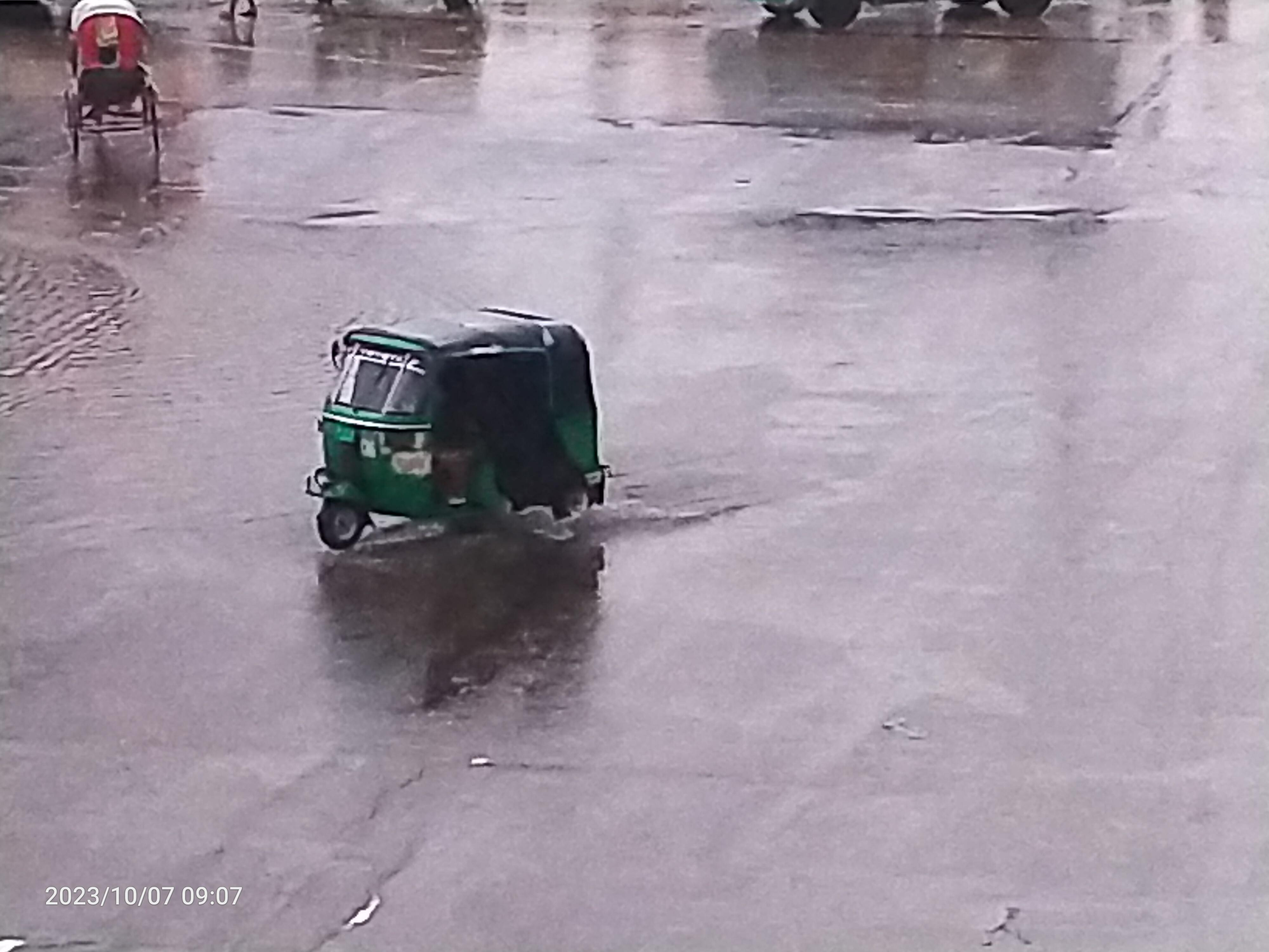Car: (45, 0, 193, 220)
